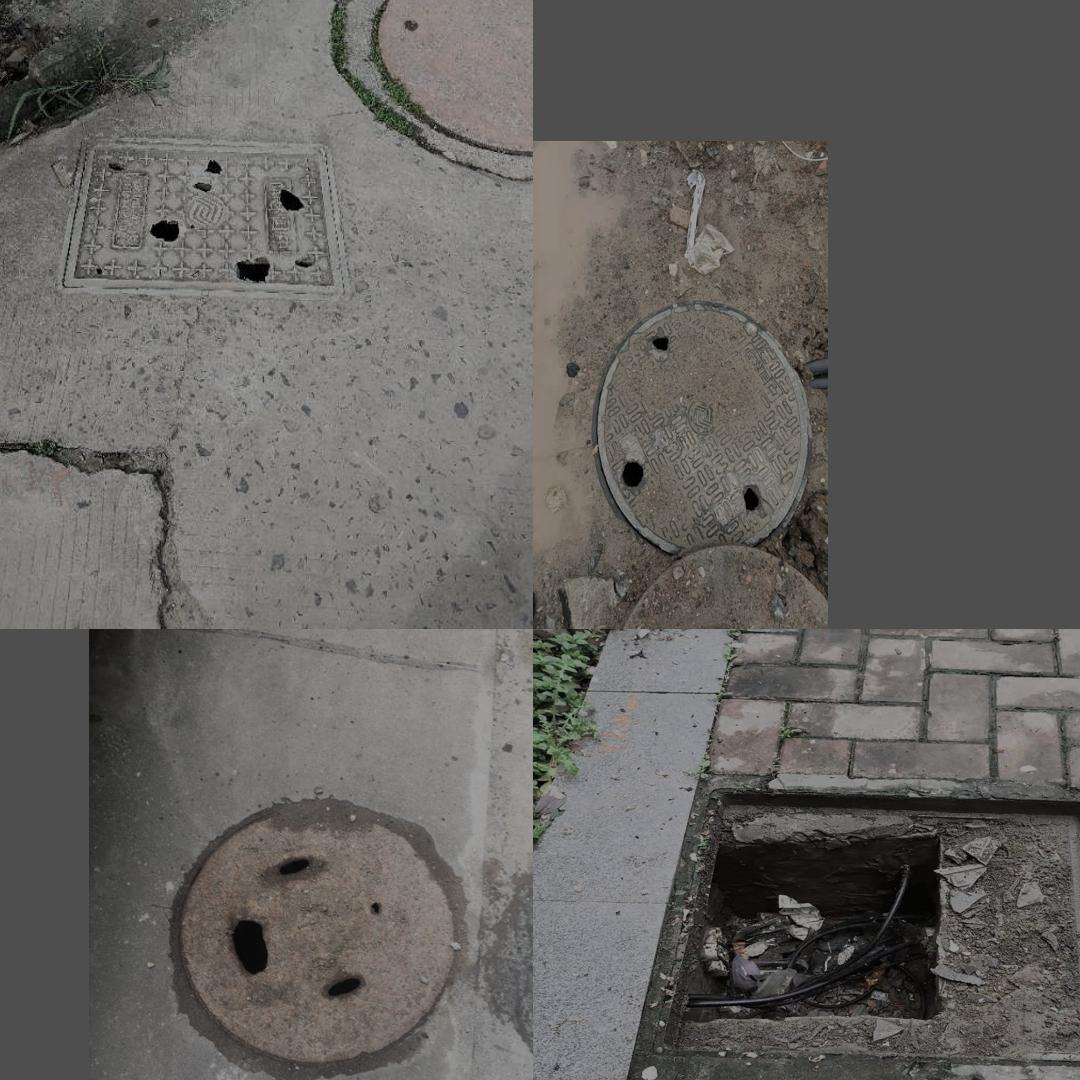broke: (643, 785, 1080, 1065), (150, 778, 482, 1080), (593, 300, 812, 558), (57, 137, 348, 298)
